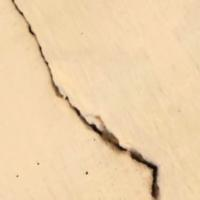crack: (13, 0, 165, 198)
